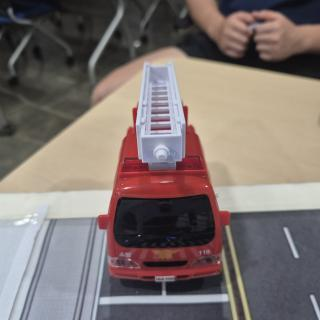Fire_truck: (98, 66, 230, 282)
